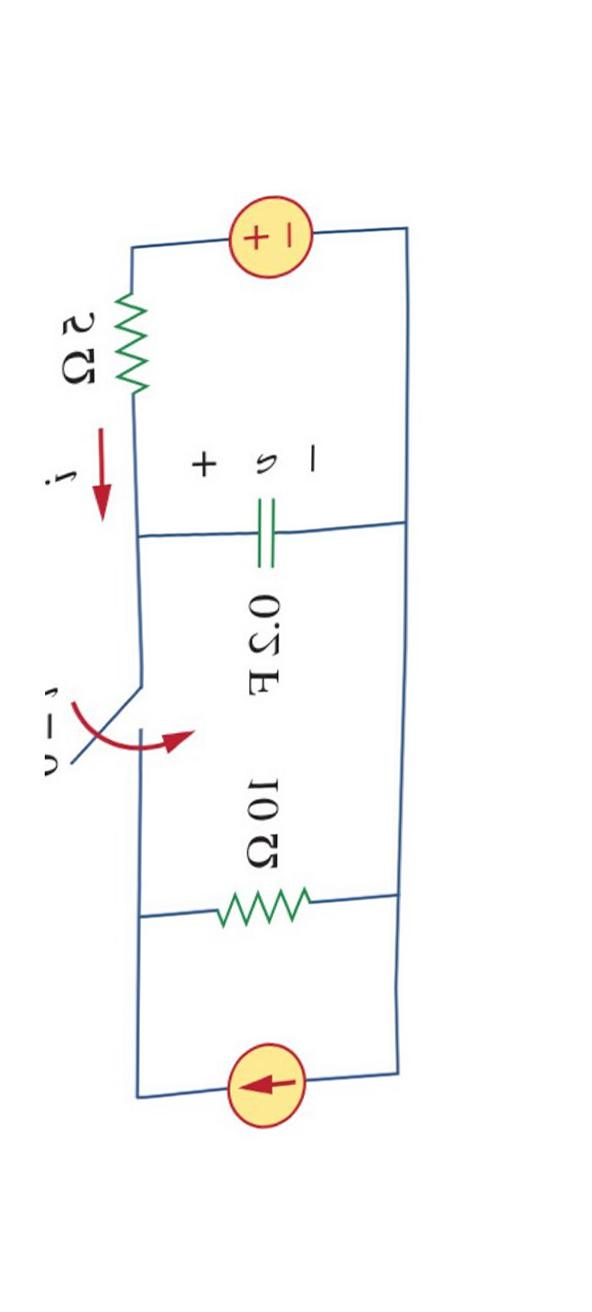Battery: (199, 164, 330, 323)
